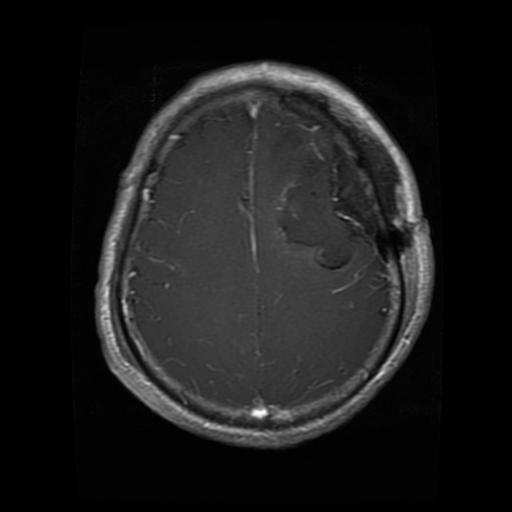Gliomia_tumour: (280, 139, 379, 267)
